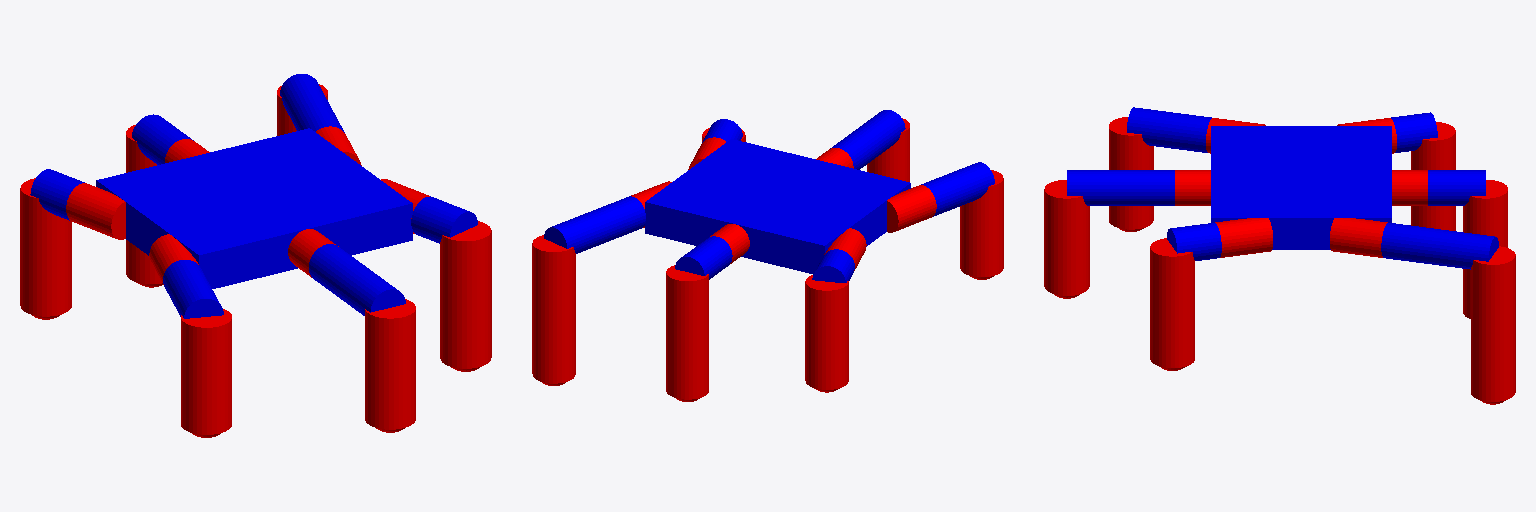
--- What the picture shows (computed from the rendered views, not written in the file) ---
The picture shows the robot from 3 angles, left to right: view 1: azimuth 30°, elevation 25°; view 2: azimuth 150°, elevation 25°; view 3: azimuth 270°, elevation 25°; orthographic projection.
Robot: pexod — 19 links, 18 joints (18 revolute); root link base_link; default pose: every joint at zero.
Links seen in each view (by area): view 1: base_link, leg_3_3, leg_4_3, leg_5_3, leg_0_3, leg_4_2, leg_0_1, leg_5_2, leg_2_2, leg_3_2, leg_1_3, leg_1_2 (+6 smaller); view 2: base_link, leg_2_3, leg_1_3, leg_0_3, leg_5_3, leg_2_2, leg_4_2, leg_5_2, leg_5_1, leg_1_2, leg_4_3, leg_0_2 (+3 smaller); view 3: base_link, leg_2_3, leg_3_3, leg_4_3, leg_2_2, leg_4_2, leg_5_3, leg_5_2, leg_0_3, leg_1_3, leg_1_2, leg_2_1 (+5 smaller).
Link boxes in pixels (<box>): base_link: <box>96,128,412,288</box>; leg_3_3: <box>440,221,491,371</box>; leg_4_3: <box>365,299,415,432</box>; leg_5_3: <box>181,309,231,437</box>; leg_0_3: <box>20,178,71,319</box>; leg_4_2: <box>309,244,405,315</box>; leg_0_1: <box>66,183,125,239</box>; leg_5_2: <box>163,260,223,318</box>; leg_2_2: <box>280,74,344,132</box>; leg_3_2: <box>411,196,477,243</box>; leg_1_3: <box>126,125,162,287</box>; leg_1_2: <box>132,114,193,164</box>; base_link: <box>645,139,910,274</box>; leg_2_3: <box>532,235,575,385</box>; leg_1_3: <box>666,265,708,401</box>; leg_0_3: <box>805,275,848,392</box>; leg_5_3: <box>960,170,1003,279</box>; leg_2_2: <box>544,196,645,253</box>; leg_4_2: <box>830,110,905,169</box>; leg_5_2: <box>921,162,994,216</box>; leg_5_1: <box>887,185,936,232</box>; leg_1_2: <box>675,236,732,279</box>; leg_4_3: <box>867,118,909,181</box>; leg_0_2: <box>812,249,854,282</box>; base_link: <box>1211,126,1391,249</box>; leg_2_3: <box>1471,246,1515,404</box>; leg_3_3: <box>1150,238,1194,370</box>; leg_4_3: <box>1044,180,1089,298</box>; leg_2_2: <box>1381,223,1498,269</box>; leg_4_2: <box>1067,170,1174,205</box>; leg_5_3: <box>1109,117,1153,231</box>; leg_5_2: <box>1127,107,1211,152</box>; leg_0_3: <box>1411,122,1455,230</box>; leg_1_3: <box>1463,180,1507,318</box>; leg_1_2: <box>1428,170,1485,205</box>; leg_2_1: <box>1330,218,1387,257</box>.
Size in the robot's own frame: 0.3893 by 0.5228 by 0.2003 metres.
Geometry: primitives only (box / cylinder / sphere), no mesh files.

robot.urdf — pexod:
<?xml version="1.0" ?>
<!-- =================================================================================== -->
<!-- |    This document was autogenerated by xacro from pexod.xacro                    | -->
<!-- |    EDITING THIS FILE BY HAND IS NOT RECOMMENDED                                 | -->
<!-- =================================================================================== -->
<robot name="pexod" xmlns:xacro="http://www.ros.org/wiki/xacro">
  <!-- <xacro:include filename="$(find pexod_description)/urdf/pexod_control.xacro" /> -->
  <!-- MATERIALS -->
  <material name="Blue">
    <color rgba="0 0 1 1"/>
  </material>
  <material name="Red">
    <color rgba="1 0 0 1"/>
  </material>
  <material name="Green">
    <color rgba="0 1 0 1"/>
  </material>
  <material name="Yellow">
    <color rgba="1 1 0 1"/>
  </material>
  <material name="LightGrey">
    <color rgba="0.6 0.6 0.6 1.0"/>
  </material>
  <!-- END OF MATERIALS -->
  <!-- XACRO MACROS FOR VISUALS AND COLLISIONS -->
  <!-- END OF XACRO MACROS -->
  <!-- TORSO -->
  <link name="base_link">
    <visual>
      <origin rpy="0 0 0" xyz="0 0 0"/>
      <geometry>
        <box size="0.24 0.2 0.04"/>
      </geometry>
      <material name="Blue"/>
    </visual>
    <collision>
      <origin rpy="0 0 0" xyz="0 0 0"/>
      <geometry>
        <box size="0.24 0.2 0.04"/>
      </geometry>
    </collision>
    <inertial>
      <!-- CENTER OF MASS -->
      <origin rpy="0 0 0" xyz="0 0 0"/>
      <mass value="1.031"/>
      <!-- box inertia: 1/12*m(y^2+z^2), ... -->
      <inertia ixx="0.00357413333333" ixy="0" ixz="0" iyy="0.00508626666667" iyz="0" izz="0.00838546666667"/>
    </inertial>
  </link>
  <!-- XACRO MACRO FOR LEGS LINKS/JOINTS -->
  <!-- END OF LEG LINKS/JOINTS -->
  <joint name="body_leg_2" type="revolute">
    <parent link="base_link"/>
    <child link="leg_2_1"/>
    <limit effort="30.0" lower="-1.57079632679" upper="1.57079632679" velocity="7.0"/>
    <origin rpy="0 0 -0.3" xyz="0.11 0.04 0"/>
    <!-- <xacro:if value="${index == 5 or index == 4 or index == 3}">
                <axis xyz="0 0 1"/>
            </xacro:if>
            <xacro:if value="${index == 2 or index == 1 or index == 0}"> -->
    <axis xyz="0 0 1"/>
    <!-- </xacro:if> -->
    <dynamics damping="0.0"/>
  </joint>
  <link name="leg_2_1">
    <visual>
      <origin rpy="1.57079632679 0 0" xyz="0.01 0.03 0"/>
      <geometry>
        <cylinder length="0.06" radius="0.02"/>
      </geometry>
      <material name="Red"/>
    </visual>
    <collision>
      <origin rpy="1.57079632679 0 0" xyz="0.01 0.03 0"/>
      <geometry>
        <box size="0.02 0.02 0.06"/>
      </geometry>
    </collision>
    <inertial>
      <!-- CENTER OF MASS -->
      <origin rpy="1.57079632679 0 0" xyz="0.01 0.03 0"/>
      <mass value="0.02"/>
      <!-- box inertia: 1/12*m(y^2+z^2), ... -->
      <inertia ixx="6.66666666667e-06" ixy="0" ixz="0" iyy="6.66666666667e-06" iyz="0" izz="1.33333333333e-06"/>
    </inertial>
  </link>
  <joint name="leg_2_1_2" type="revolute">
    <parent link="leg_2_1"/>
    <child link="leg_2_2"/>
    <limit effort="30.0" lower="-0.78539816339" upper="0.78539816339" velocity="7.0"/>
    <origin rpy="0 0 0" xyz="0 0.06 0"/>
    <axis xyz="1 0 0"/>
    <dynamics damping="0.0"/>
  </joint>
  <link name="leg_2_2">
    <visual>
      <origin rpy="1.57079632679 0 0" xyz="0.01 0.062256456795 0"/>
      <geometry>
        <cylinder length="0.12451291359" radius="0.02"/>
      </geometry>
      <material name="Blue"/>
    </visual>
    <collision>
      <origin rpy="1.57079632679 0 0" xyz="0.01 0.062256456795 0"/>
      <geometry>
        <box size="0.02 0.02 0.12451291359"/>
      </geometry>
    </collision>
    <inertial>
      <!-- CENTER OF MASS -->
      <origin rpy="1.57079632679 0 0" xyz="0.01 0.062256456795 0"/>
      <mass value="0.184"/>
      <!-- box inertia: 1/12*m(y^2+z^2), ... -->
      <inertia ixx="0.000243853139977" ixy="0" ixz="0" iyy="0.000243853139977" iyz="0" izz="1.22666666667e-05"/>
    </inertial>
  </link>
  <joint name="leg_2_2_3" type="revolute">
    <parent link="leg_2_2"/>
    <child link="leg_2_3"/>
    <limit effort="30.0" lower="-0.78539816339" upper="0.78539816339" velocity="7.0"/>
    <origin rpy="-1.57079632679 0 0" xyz="0 0.12451291359 0"/>
    <axis xyz="-1 0 0"/>
    <dynamics damping="0.0"/>
  </joint>
  <link name="leg_2_3">
    <visual>
      <origin rpy="1.57079632679 0 0" xyz="0.0125 0.083886330661 0"/>
      <geometry>
        <cylinder length="0.167772661322" radius="0.025"/>
      </geometry>
      <material name="Red"/>
    </visual>
    <visual>
      <origin rpy="1.57079632679 0 0" xyz="0.0125 0.155272661322 0"/>
      <geometry>
        <sphere radius="0.025"/>
      </geometry>
      <material name="Red"/>
    </visual>
    <collision>
      <origin rpy="1.57079632679 0 0" xyz="0.0125 0.083886330661 0"/>
      <geometry>
        <box size="0.025 0.025 0.167772661322"/>
      </geometry>
    </collision>
    <collision>
      <origin rpy="1.57079632679 0 0" xyz="0.0125 0.155272661322 0"/>
      <geometry>
        <sphere radius="0.025"/>
      </geometry>
      <material name="Red"/>
    </collision>
    <inertial>
      <!-- CENTER OF MASS -->
      <origin rpy="1.57079632679 0 0" xyz="0.0125 0.083886330661 0"/>
      <mass value="0.04"/>
      <!-- box inertia: 1/12*m(y^2+z^2), ... -->
      <inertia ixx="9.59088862902e-05" ixy="0" ixz="0" iyy="9.59088862902e-05" iyz="0" izz="4.16666666667e-06"/>
    </inertial>
  </link>
  <joint name="body_leg_3" type="revolute">
    <parent link="base_link"/>
    <child link="leg_3_1"/>
    <limit effort="30.0" lower="-1.57079632679" upper="1.57079632679" velocity="7.0"/>
    <origin rpy="0 0 0.3" xyz="0.11 -0.04 0"/>
    <!-- <xacro:if value="${index == 5 or index == 4 or index == 3}">
                <axis xyz="0 0 1"/>
            </xacro:if>
            <xacro:if value="${index == 2 or index == 1 or index == 0}"> -->
    <axis xyz="0 0 1"/>
    <!-- </xacro:if> -->
    <dynamics damping="0.0"/>
  </joint>
  <link name="leg_3_1">
    <visual>
      <origin rpy="1.57079632679 0 0" xyz="0.01 -0.03 0"/>
      <geometry>
        <cylinder length="0.06" radius="0.02"/>
      </geometry>
      <material name="Red"/>
    </visual>
    <collision>
      <origin rpy="1.57079632679 0 0" xyz="0.01 -0.03 0"/>
      <geometry>
        <box size="0.02 0.02 0.06"/>
      </geometry>
    </collision>
    <inertial>
      <!-- CENTER OF MASS -->
      <origin rpy="1.57079632679 0 0" xyz="0.01 -0.03 0"/>
      <mass value="0.02"/>
      <!-- box inertia: 1/12*m(y^2+z^2), ... -->
      <inertia ixx="6.66666666667e-06" ixy="0" ixz="0" iyy="6.66666666667e-06" iyz="0" izz="1.33333333333e-06"/>
    </inertial>
  </link>
  <joint name="leg_3_1_2" type="revolute">
    <parent link="leg_3_1"/>
    <child link="leg_3_2"/>
    <limit effort="30.0" lower="-0.78539816339" upper="0.78539816339" velocity="7.0"/>
    <origin rpy="0 0 0" xyz="0 -0.06 0"/>
    <axis xyz="-1 0 0"/>
    <dynamics damping="0.0"/>
  </joint>
  <link name="leg_3_2">
    <visual>
      <origin rpy="1.57079632679 0 0" xyz="0.01 -0.0258092423297 0"/>
      <geometry>
        <cylinder length="0.0516184846593" radius="0.02"/>
      </geometry>
      <material name="Blue"/>
    </visual>
    <collision>
      <origin rpy="1.57079632679 0 0" xyz="0.01 -0.0258092423297 0"/>
      <geometry>
        <box size="0.02 0.02 0.0516184846593"/>
      </geometry>
    </collision>
    <inertial>
      <!-- CENTER OF MASS -->
      <origin rpy="1.57079632679 0 0" xyz="0.01 -0.0258092423297 0"/>
      <mass value="0.184"/>
      <!-- box inertia: 1/12*m(y^2+z^2), ... -->
      <inertia ixx="4.69885086973e-05" ixy="0" ixz="0" iyy="4.69885086973e-05" iyz="0" izz="1.22666666667e-05"/>
    </inertial>
  </link>
  <joint name="leg_3_2_3" type="revolute">
    <parent link="leg_3_2"/>
    <child link="leg_3_3"/>
    <limit effort="30.0" lower="-0.78539816339" upper="0.78539816339" velocity="7.0"/>
    <origin rpy="1.57079632679 0 0" xyz="0 -0.0516184846593 0"/>
    <axis xyz="1 0 0"/>
    <dynamics damping="0.0"/>
  </joint>
  <link name="leg_3_3">
    <visual>
      <origin rpy="1.57079632679 0 0" xyz="0.0125 -0.068427123956 0"/>
      <geometry>
        <cylinder length="0.136854247912" radius="0.025"/>
      </geometry>
      <material name="Red"/>
    </visual>
    <visual>
      <origin rpy="1.57079632679 0 0" xyz="0.0125 -0.124354247912 0"/>
      <geometry>
        <sphere radius="0.025"/>
      </geometry>
      <material name="Red"/>
    </visual>
    <collision>
      <origin rpy="1.57079632679 0 0" xyz="0.0125 -0.068427123956 0"/>
      <geometry>
        <box size="0.025 0.025 0.136854247912"/>
      </geometry>
    </collision>
    <collision>
      <origin rpy="1.57079632679 0 0" xyz="0.0125 -0.124354247912 0"/>
      <geometry>
        <sphere radius="0.025"/>
      </geometry>
      <material name="Red"/>
    </collision>
    <inertial>
      <!-- CENTER OF MASS -->
      <origin rpy="1.57079632679 0 0" xyz="0.0125 -0.068427123956 0"/>
      <mass value="0.04"/>
      <!-- box inertia: 1/12*m(y^2+z^2), ... -->
      <inertia ixx="6.45136172385e-05" ixy="0" ixz="0" iyy="6.45136172385e-05" iyz="0" izz="4.16666666667e-06"/>
    </inertial>
  </link>
  <joint name="body_leg_0" type="revolute">
    <parent link="base_link"/>
    <child link="leg_0_1"/>
    <limit effort="30.0" lower="-1.57079632679" upper="1.57079632679" velocity="7.0"/>
    <origin rpy="0 0 0.3" xyz="-0.13 0.04 0"/>
    <!-- <xacro:if value="${index == 5 or index == 4 or index == 3}">
                <axis xyz="0 0 1"/>
            </xacro:if>
            <xacro:if value="${index == 2 or index == 1 or index == 0}"> -->
    <axis xyz="0 0 1"/>
    <!-- </xacro:if> -->
    <dynamics damping="0.0"/>
  </joint>
  <link name="leg_0_1">
    <visual>
      <origin rpy="1.57079632679 0 0" xyz="0.01 0.03 0"/>
      <geometry>
        <cylinder length="0.06" radius="0.02"/>
      </geometry>
      <material name="Red"/>
    </visual>
    <collision>
      <origin rpy="1.57079632679 0 0" xyz="0.01 0.03 0"/>
      <geometry>
        <box size="0.02 0.02 0.06"/>
      </geometry>
    </collision>
    <inertial>
      <!-- CENTER OF MASS -->
      <origin rpy="1.57079632679 0 0" xyz="0.01 0.03 0"/>
      <mass value="0.02"/>
      <!-- box inertia: 1/12*m(y^2+z^2), ... -->
      <inertia ixx="6.66666666667e-06" ixy="0" ixz="0" iyy="6.66666666667e-06" iyz="0" izz="1.33333333333e-06"/>
    </inertial>
  </link>
  <joint name="leg_0_1_2" type="revolute">
    <parent link="leg_0_1"/>
    <child link="leg_0_2"/>
    <limit effort="30.0" lower="-0.78539816339" upper="0.78539816339" velocity="7.0"/>
    <origin rpy="0 0 0" xyz="0 0.06 0"/>
    <axis xyz="1 0 0"/>
    <dynamics damping="0.0"/>
  </joint>
  <link name="leg_0_2">
    <visual>
      <origin rpy="1.57079632679 0 0" xyz="0.01 0.0236306718053 0"/>
      <geometry>
        <cylinder length="0.0472613436106" radius="0.02"/>
      </geometry>
      <material name="Blue"/>
    </visual>
    <collision>
      <origin rpy="1.57079632679 0 0" xyz="0.01 0.0236306718053 0"/>
      <geometry>
        <box size="0.02 0.02 0.0472613436106"/>
      </geometry>
    </collision>
    <inertial>
      <!-- CENTER OF MASS -->
      <origin rpy="1.57079632679 0 0" xyz="0.01 0.0236306718053 0"/>
      <mass value="0.184"/>
      <!-- box inertia: 1/12*m(y^2+z^2), ... -->
      <inertia ixx="4.03823971981e-05" ixy="0" ixz="0" iyy="4.03823971981e-05" iyz="0" izz="1.22666666667e-05"/>
    </inertial>
  </link>
  <joint name="leg_0_2_3" type="revolute">
    <parent link="leg_0_2"/>
    <child link="leg_0_3"/>
    <limit effort="30.0" lower="-0.78539816339" upper="0.78539816339" velocity="7.0"/>
    <origin rpy="-1.57079632679 0 0" xyz="0 0.0472613436106 0"/>
    <axis xyz="-1 0 0"/>
    <dynamics damping="0.0"/>
  </joint>
  <link name="leg_0_3">
    <visual>
      <origin rpy="1.57079632679 0 0" xyz="0.0125 0.0632603599365 0"/>
      <geometry>
        <cylinder length="0.126520719873" radius="0.025"/>
      </geometry>
      <material name="Red"/>
    </visual>
    <visual>
      <origin rpy="1.57079632679 0 0" xyz="0.0125 0.114020719873 0"/>
      <geometry>
        <sphere radius="0.025"/>
      </geometry>
      <material name="Red"/>
    </visual>
    <collision>
      <origin rpy="1.57079632679 0 0" xyz="0.0125 0.0632603599365 0"/>
      <geometry>
        <box size="0.025 0.025 0.126520719873"/>
      </geometry>
    </collision>
    <collision>
      <origin rpy="1.57079632679 0 0" xyz="0.0125 0.114020719873 0"/>
      <geometry>
        <sphere radius="0.025"/>
      </geometry>
      <material name="Red"/>
    </collision>
    <inertial>
      <!-- CENTER OF MASS -->
      <origin rpy="1.57079632679 0 0" xyz="0.0125 0.0632603599365 0"/>
      <mass value="0.04"/>
      <!-- box inertia: 1/12*m(y^2+z^2), ... -->
      <inertia ixx="5.54416418573e-05" ixy="0" ixz="0" iyy="5.54416418573e-05" iyz="0" izz="4.16666666667e-06"/>
    </inertial>
  </link>
  <joint name="body_leg_5" type="revolute">
    <parent link="base_link"/>
    <child link="leg_5_1"/>
    <limit effort="30.0" lower="-1.57079632679" upper="1.57079632679" velocity="7.0"/>
    <origin rpy="0 0 -0.3" xyz="-0.13 -0.04 0"/>
    <!-- <xacro:if value="${index == 5 or index == 4 or index == 3}">
                <axis xyz="0 0 1"/>
            </xacro:if>
            <xacro:if value="${index == 2 or index == 1 or index == 0}"> -->
    <axis xyz="0 0 1"/>
    <!-- </xacro:if> -->
    <dynamics damping="0.0"/>
  </joint>
  <link name="leg_5_1">
    <visual>
      <origin rpy="1.57079632679 0 0" xyz="0.01 -0.03 0"/>
      <geometry>
        <cylinder length="0.06" radius="0.02"/>
      </geometry>
      <material name="Red"/>
    </visual>
    <collision>
      <origin rpy="1.57079632679 0 0" xyz="0.01 -0.03 0"/>
      <geometry>
        <box size="0.02 0.02 0.06"/>
      </geometry>
    </collision>
    <inertial>
      <!-- CENTER OF MASS -->
      <origin rpy="1.57079632679 0 0" xyz="0.01 -0.03 0"/>
      <mass value="0.02"/>
      <!-- box inertia: 1/12*m(y^2+z^2), ... -->
      <inertia ixx="6.66666666667e-06" ixy="0" ixz="0" iyy="6.66666666667e-06" iyz="0" izz="1.33333333333e-06"/>
    </inertial>
  </link>
  <joint name="leg_5_1_2" type="revolute">
    <parent link="leg_5_1"/>
    <child link="leg_5_2"/>
    <limit effort="30.0" lower="-0.78539816339" upper="0.78539816339" velocity="7.0"/>
    <origin rpy="0 0 0" xyz="0 -0.06 0"/>
    <axis xyz="-1 0 0"/>
    <dynamics damping="0.0"/>
  </joint>
  <link name="leg_5_2">
    <visual>
      <origin rpy="1.57079632679 0 0" xyz="0.01 -0.0460878097773 0"/>
      <geometry>
        <cylinder length="0.0921756195546" radius="0.02"/>
      </geometry>
      <material name="Blue"/>
    </visual>
    <collision>
      <origin rpy="1.57079632679 0 0" xyz="0.01 -0.0460878097773 0"/>
      <geometry>
        <box size="0.02 0.02 0.0921756195546"/>
      </geometry>
    </collision>
    <inertial>
      <!-- CENTER OF MASS -->
      <origin rpy="1.57079632679 0 0" xyz="0.01 -0.0460878097773 0"/>
      <mass value="0.184"/>
      <!-- box inertia: 1/12*m(y^2+z^2), ... -->
      <inertia ixx="0.000136410620884" ixy="0" ixz="0" iyy="0.000136410620884" iyz="0" izz="1.22666666667e-05"/>
    </inertial>
  </link>
  <joint name="leg_5_2_3" type="revolute">
    <parent link="leg_5_2"/>
    <child link="leg_5_3"/>
    <limit effort="30.0" lower="-0.78539816339" upper="0.78539816339" velocity="7.0"/>
    <origin rpy="1.57079632679 0 0" xyz="0 -0.0921756195546 0"/>
    <axis xyz="1 0 0"/>
    <dynamics damping="0.0"/>
  </joint>
  <link name="leg_5_3">
    <visual>
      <origin rpy="1.57079632679 0 0" xyz="0.0125 -0.057590347734 0"/>
      <geometry>
        <cylinder length="0.115180695468" radius="0.025"/>
      </geometry>
      <material name="Red"/>
    </visual>
    <visual>
      <origin rpy="1.57079632679 0 0" xyz="0.0125 -0.102680695468 0"/>
      <geometry>
        <sphere radius="0.025"/>
      </geometry>
      <material name="Red"/>
    </visual>
    <collision>
      <origin rpy="1.57079632679 0 0" xyz="0.0125 -0.057590347734 0"/>
      <geometry>
        <box size="0.025 0.025 0.115180695468"/>
      </geometry>
    </collision>
    <collision>
      <origin rpy="1.57079632679 0 0" xyz="0.0125 -0.102680695468 0"/>
      <geometry>
        <sphere radius="0.025"/>
      </geometry>
      <material name="Red"/>
    </collision>
    <inertial>
      <!-- CENTER OF MASS -->
      <origin rpy="1.57079632679 0 0" xyz="0.0125 -0.057590347734 0"/>
      <mass value="0.04"/>
      <!-- box inertia: 1/12*m(y^2+z^2), ... -->
      <inertia ixx="4.6305308695e-05" ixy="0" ixz="0" iyy="4.6305308695e-05" iyz="0" izz="4.16666666667e-06"/>
    </inertial>
  </link>
  <joint name="body_leg_1" type="revolute">
    <parent link="base_link"/>
    <child link="leg_1_1"/>
    <limit effort="30.0" lower="-1.57079632679" upper="1.57079632679" velocity="7.0"/>
    <origin rpy="0 0 0" xyz="-0.01 0.08 0"/>
    <!-- <xacro:if value="${index == 5 or index == 4 or index == 3}">
                <axis xyz="0 0 1"/>
            </xacro:if>
            <xacro:if value="${index == 2 or index == 1 or index == 0}"> -->
    <axis xyz="0 0 1"/>
    <!-- </xacro:if> -->
    <dynamics damping="0.0"/>
  </joint>
  <link name="leg_1_1">
    <visual>
      <origin rpy="1.57079632679 0 0" xyz="0.01 0.03 0"/>
      <geometry>
        <cylinder length="0.06" radius="0.02"/>
      </geometry>
      <material name="Red"/>
    </visual>
    <collision>
      <origin rpy="1.57079632679 0 0" xyz="0.01 0.03 0"/>
      <geometry>
        <box size="0.02 0.02 0.06"/>
      </geometry>
    </collision>
    <inertial>
      <!-- CENTER OF MASS -->
      <origin rpy="1.57079632679 0 0" xyz="0.01 0.03 0"/>
      <mass value="0.02"/>
      <!-- box inertia: 1/12*m(y^2+z^2), ... -->
      <inertia ixx="6.66666666667e-06" ixy="0" ixz="0" iyy="6.66666666667e-06" iyz="0" izz="1.33333333333e-06"/>
    </inertial>
  </link>
  <joint name="leg_1_1_2" type="revolute">
    <parent link="leg_1_1"/>
    <child link="leg_1_2"/>
    <limit effort="30.0" lower="-0.78539816339" upper="0.78539816339" velocity="7.0"/>
    <origin rpy="0 0 0" xyz="0 0.06 0"/>
    <axis xyz="1 0 0"/>
    <dynamics damping="0.0"/>
  </joint>
  <link name="leg_1_2">
    <visual>
      <origin rpy="1.57079632679 0 0" xyz="0.01 0.0322047865244 0"/>
      <geometry>
        <cylinder length="0.0644095730488" radius="0.02"/>
      </geometry>
      <material name="Blue"/>
    </visual>
    <collision>
      <origin rpy="1.57079632679 0 0" xyz="0.01 0.0322047865244 0"/>
      <geometry>
        <box size="0.02 0.02 0.0644095730488"/>
      </geometry>
    </collision>
    <inertial>
      <!-- CENTER OF MASS -->
      <origin rpy="1.57079632679 0 0" xyz="0.01 0.0322047865244 0"/>
      <mass value="0.184"/>
      <!-- box inertia: 1/12*m(y^2+z^2), ... -->
      <inertia ixx="6.9745094205e-05" ixy="0" ixz="0" iyy="6.9745094205e-05" iyz="0" izz="1.22666666667e-05"/>
    </inertial>
  </link>
  <joint name="leg_1_2_3" type="revolute">
    <parent link="leg_1_2"/>
    <child link="leg_1_3"/>
    <limit effort="30.0" lower="-0.78539816339" upper="0.78539816339" velocity="7.0"/>
    <origin rpy="-1.57079632679 0 0" xyz="0 0.0644095730488 0"/>
    <axis xyz="-1 0 0"/>
    <dynamics damping="0.0"/>
  </joint>
  <link name="leg_1_3">
    <visual>
      <origin rpy="1.57079632679 0 0" xyz="0.0125 0.0754747865925 0"/>
      <geometry>
        <cylinder length="0.150949573185" radius="0.025"/>
      </geometry>
      <material name="Red"/>
    </visual>
    <visual>
      <origin rpy="1.57079632679 0 0" xyz="0.0125 0.138449573185 0"/>
      <geometry>
        <sphere radius="0.025"/>
      </geometry>
      <material name="Red"/>
    </visual>
    <collision>
      <origin rpy="1.57079632679 0 0" xyz="0.0125 0.0754747865925 0"/>
      <geometry>
        <box size="0.025 0.025 0.150949573185"/>
      </geometry>
    </collision>
    <collision>
      <origin rpy="1.57079632679 0 0" xyz="0.0125 0.138449573185 0"/>
      <geometry>
        <sphere radius="0.025"/>
      </geometry>
      <material name="Red"/>
    </collision>
    <inertial>
      <!-- CENTER OF MASS -->
      <origin rpy="1.57079632679 0 0" xyz="0.0125 0.0754747865925 0"/>
      <mass value="0.04"/>
      <!-- box inertia: 1/12*m(y^2+z^2), ... -->
      <inertia ixx="7.80359121491e-05" ixy="0" ixz="0" iyy="7.80359121491e-05" iyz="0" izz="4.16666666667e-06"/>
    </inertial>
  </link>
  <joint name="body_leg_4" type="revolute">
    <parent link="base_link"/>
    <child link="leg_4_1"/>
    <limit effort="30.0" lower="-1.57079632679" upper="1.57079632679" velocity="7.0"/>
    <origin rpy="0 0 0" xyz="-0.01 -0.08 0"/>
    <!-- <xacro:if value="${index == 5 or index == 4 or index == 3}">
                <axis xyz="0 0 1"/>
            </xacro:if>
            <xacro:if value="${index == 2 or index == 1 or index == 0}"> -->
    <axis xyz="0 0 1"/>
    <!-- </xacro:if> -->
    <dynamics damping="0.0"/>
  </joint>
  <link name="leg_4_1">
    <visual>
      <origin rpy="1.57079632679 0 0" xyz="0.01 -0.03 0"/>
      <geometry>
        <cylinder length="0.06" radius="0.02"/>
      </geometry>
      <material name="Red"/>
    </visual>
    <collision>
      <origin rpy="1.57079632679 0 0" xyz="0.01 -0.03 0"/>
      <geometry>
        <box size="0.02 0.02 0.06"/>
      </geometry>
    </collision>
    <inertial>
      <!-- CENTER OF MASS -->
      <origin rpy="1.57079632679 0 0" xyz="0.01 -0.03 0"/>
      <mass value="0.02"/>
      <!-- box inertia: 1/12*m(y^2+z^2), ... -->
      <inertia ixx="6.66666666667e-06" ixy="0" ixz="0" iyy="6.66666666667e-06" iyz="0" izz="1.33333333333e-06"/>
    </inertial>
  </link>
  <joint name="leg_4_1_2" type="revolute">
    <parent link="leg_4_1"/>
    <child link="leg_4_2"/>
    <limit effort="30.0" lower="-0.78539816339" upper="0.78539816339" velocity="7.0"/>
    <origin rpy="0 0 0" xyz="0 -0.06 0"/>
    <axis xyz="-1 0 0"/>
    <dynamics damping="0.0"/>
  </joint>
  <link name="leg_4_2">
    <visual>
      <origin rpy="1.57079632679 0 0" xyz="0.01 -0.0601528027635 0"/>
      <geometry>
        <cylinder length="0.120305605527" radius="0.02"/>
      </geometry>
      <material name="Blue"/>
    </visual>
    <collision>
      <origin rpy="1.57079632679 0 0" xyz="0.01 -0.0601528027635 0"/>
      <geometry>
        <box size="0.02 0.02 0.120305605527"/>
      </geometry>
    </collision>
    <inertial>
      <!-- CENTER OF MASS -->
      <origin rpy="1.57079632679 0 0" xyz="0.01 -0.0601528027635 0"/>
      <mass value="0.184"/>
      <!-- box inertia: 1/12*m(y^2+z^2), ... -->
      <inertia ixx="0.000228059393725" ixy="0" ixz="0" iyy="0.000228059393725" iyz="0" izz="1.22666666667e-05"/>
    </inertial>
  </link>
  <joint name="leg_4_2_3" type="revolute">
    <parent link="leg_4_2"/>
    <child link="leg_4_3"/>
    <limit effort="30.0" lower="-0.78539816339" upper="0.78539816339" velocity="7.0"/>
    <origin rpy="1.57079632679 0 0" xyz="0 -0.120305605527 0"/>
    <axis xyz="1 0 0"/>
    <dynamics damping="0.0"/>
  </joint>
  <link name="leg_4_3">
    <visual>
      <origin rpy="1.57079632679 0 0" xyz="0.0125 -0.0596501387765 0"/>
      <geometry>
        <cylinder length="0.119300277553" radius="0.025"/>
      </geometry>
      <material name="Red"/>
    </visual>
    <visual>
      <origin rpy="1.57079632679 0 0" xyz="0.0125 -0.106800277553 0"/>
      <geometry>
        <sphere radius="0.025"/>
      </geometry>
      <material name="Red"/>
    </visual>
    <collision>
      <origin rpy="1.57079632679 0 0" xyz="0.0125 -0.0596501387765 0"/>
      <geometry>
        <box size="0.025 0.025 0.119300277553"/>
      </geometry>
    </collision>
    <collision>
      <origin rpy="1.57079632679 0 0" xyz="0.0125 -0.106800277553 0"/>
      <geometry>
        <sphere radius="0.025"/>
      </geometry>
      <material name="Red"/>
    </collision>
    <inertial>
      <!-- CENTER OF MASS -->
      <origin rpy="1.57079632679 0 0" xyz="0.0125 -0.0596501387765 0"/>
      <mass value="0.04"/>
      <!-- box inertia: 1/12*m(y^2+z^2), ... -->
      <inertia ixx="4.95251874141e-05" ixy="0" ixz="0" iyy="4.95251874141e-05" iyz="0" izz="4.16666666667e-06"/>
    </inertial>
  </link>
  <!-- END OF LEG LINKS/JOINTS -->
</robot>
